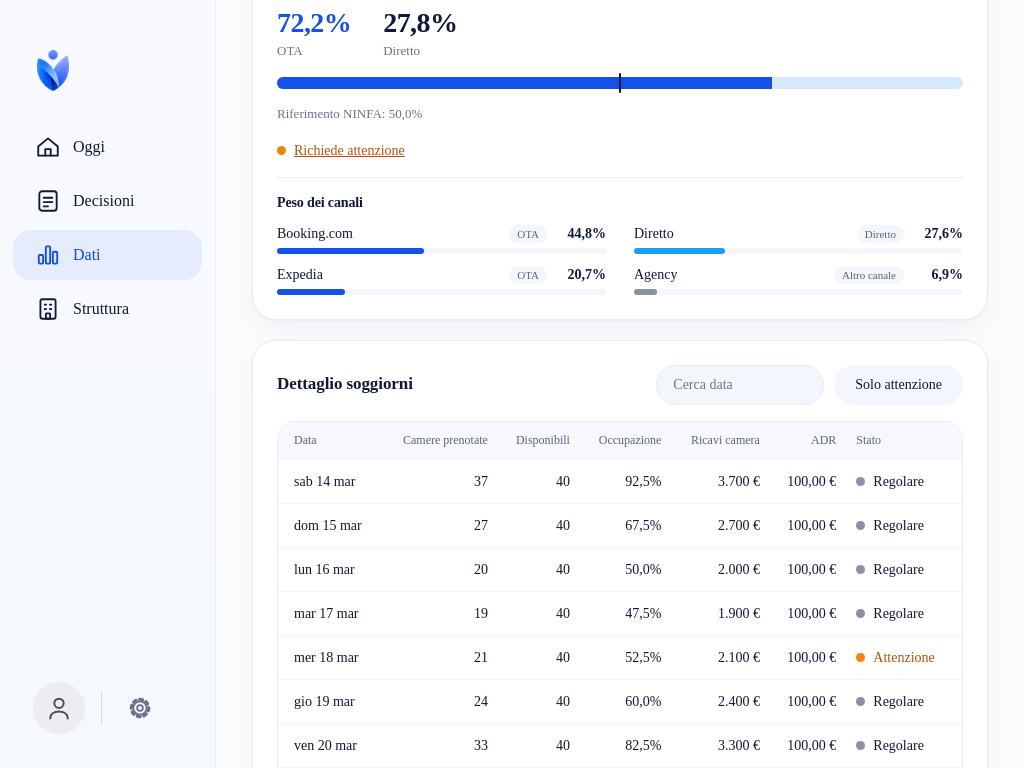
Scenario: Panoramica - the detail table › filters to the nights that need attention, and says when none matches
(page scrolled)
Click the button "Solo attenzione" at (899, 384), box left=834, top=364, right=963, bottom=404
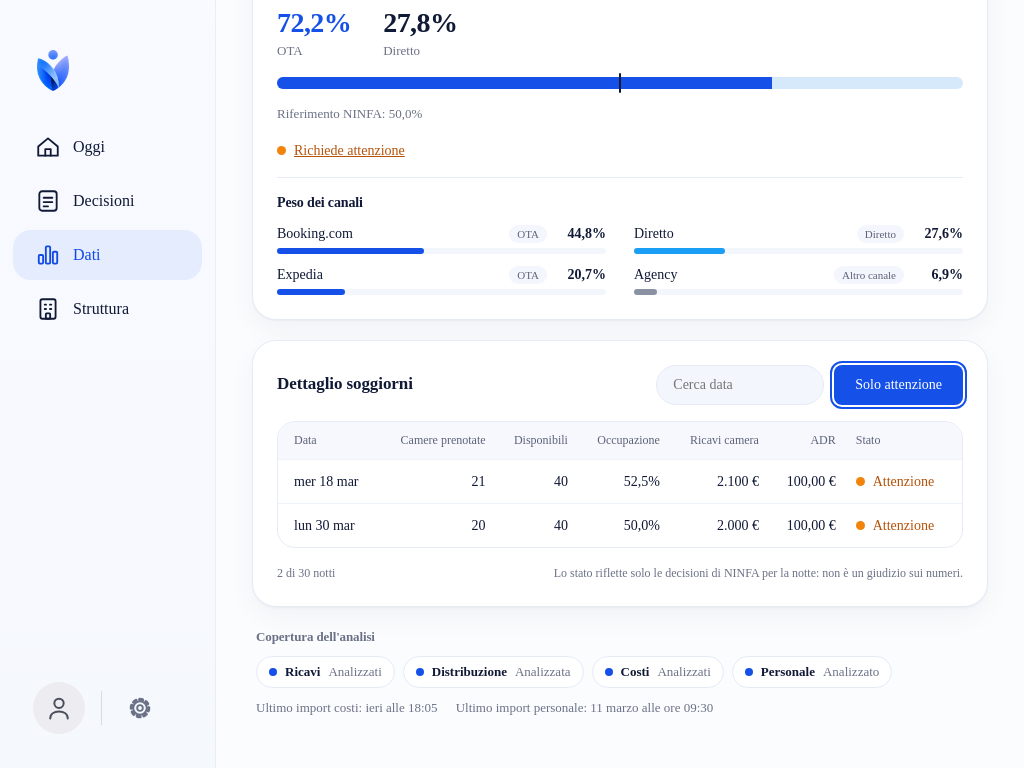
Now the button "Solo attenzione" is pressed, box left=834, top=364, right=963, bottom=404
Type "domenica" into the search field named "Cerca per data" at (740, 384), box left=656, top=364, right=824, bottom=404
(page scrolled)
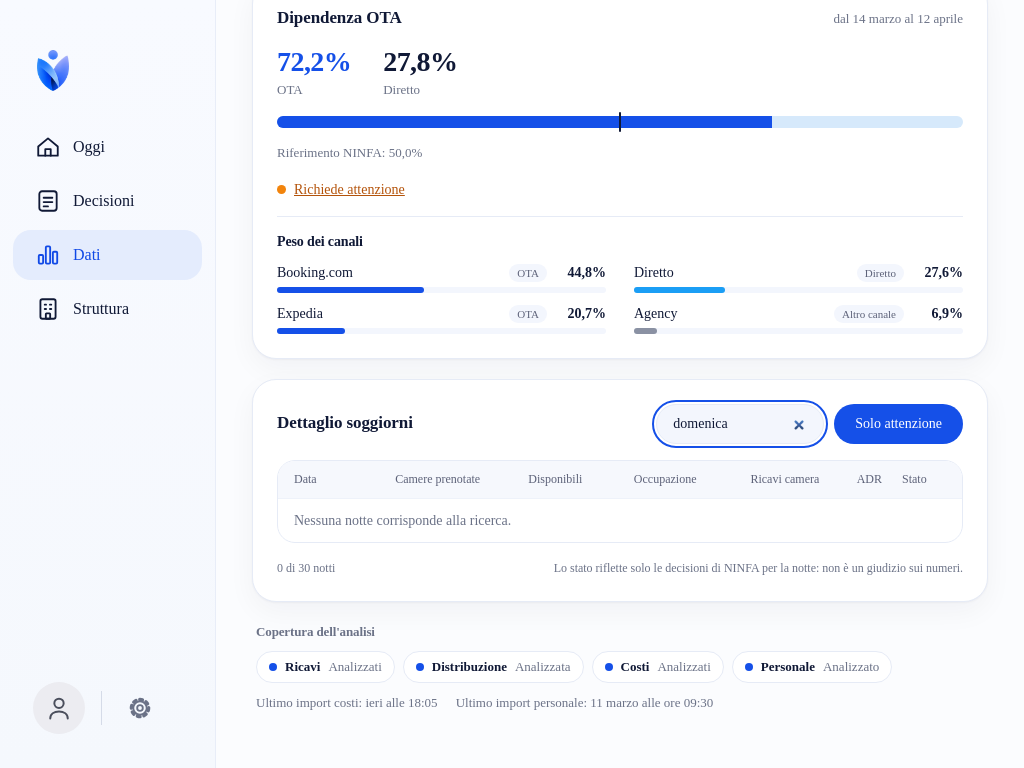
Now the text "Nessuna notte corrisponde alla ricerca." is shown, box left=278, top=498, right=962, bottom=542
